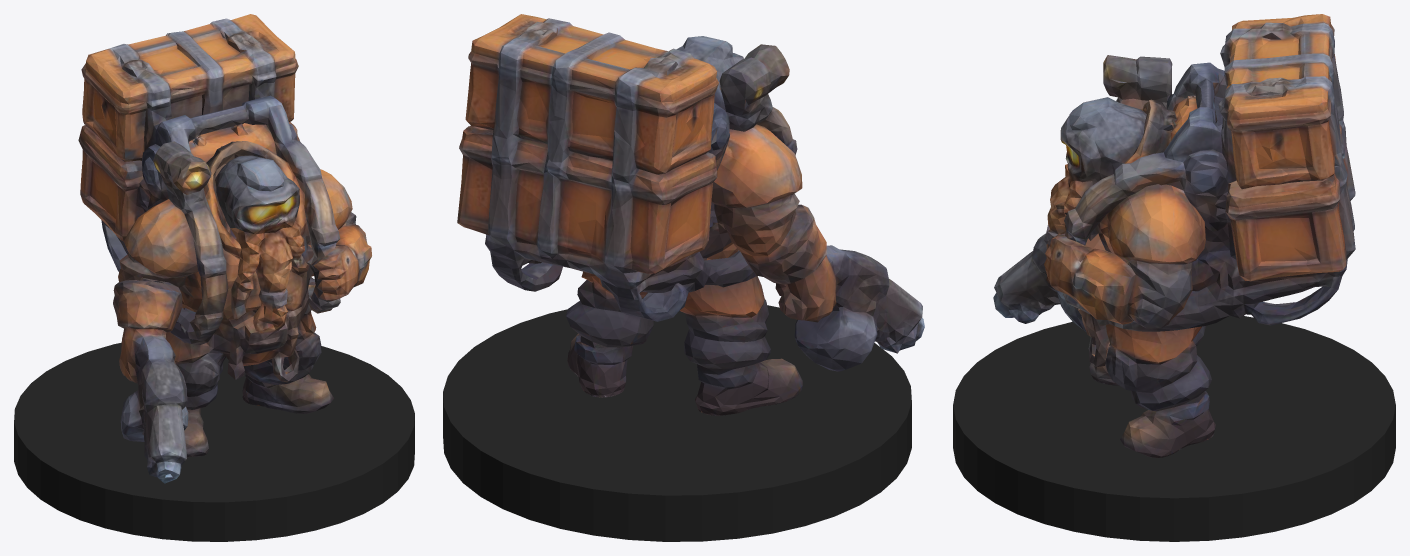
The model's file is hk-lugger.glb.
3 renders of one model, left to right at view 1: azimuth 30°, elevation 25°; view 2: azimuth 150°, elevation 25°; view 3: azimuth 270°, elevation 25°, orthographic. The views are drawn at different scales.
Parts seen in each view (by area): view 1: figure, base; view 2: figure, base; view 3: figure, base.
Boxes of the visible parts, x1,y1,x2,y2 form: figure: (78, 14, 371, 483); base: (14, 342, 414, 541); figure: (457, 14, 924, 415); base: (443, 305, 911, 541); figure: (993, 14, 1355, 457); base: (953, 315, 1395, 541).
Size of the model in its own units: 1.1 by 1.12 by 1.1.
2 materials, 1 textured.
